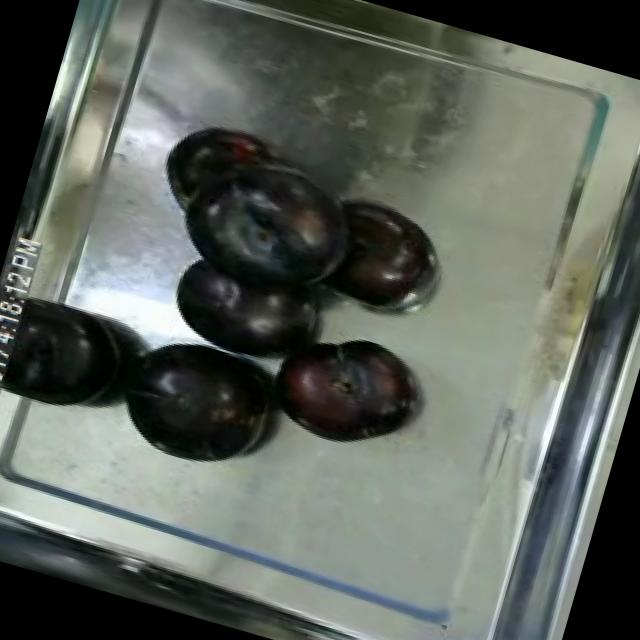Fruit: (95, 316, 290, 484), (250, 308, 432, 472), (308, 190, 446, 327)
